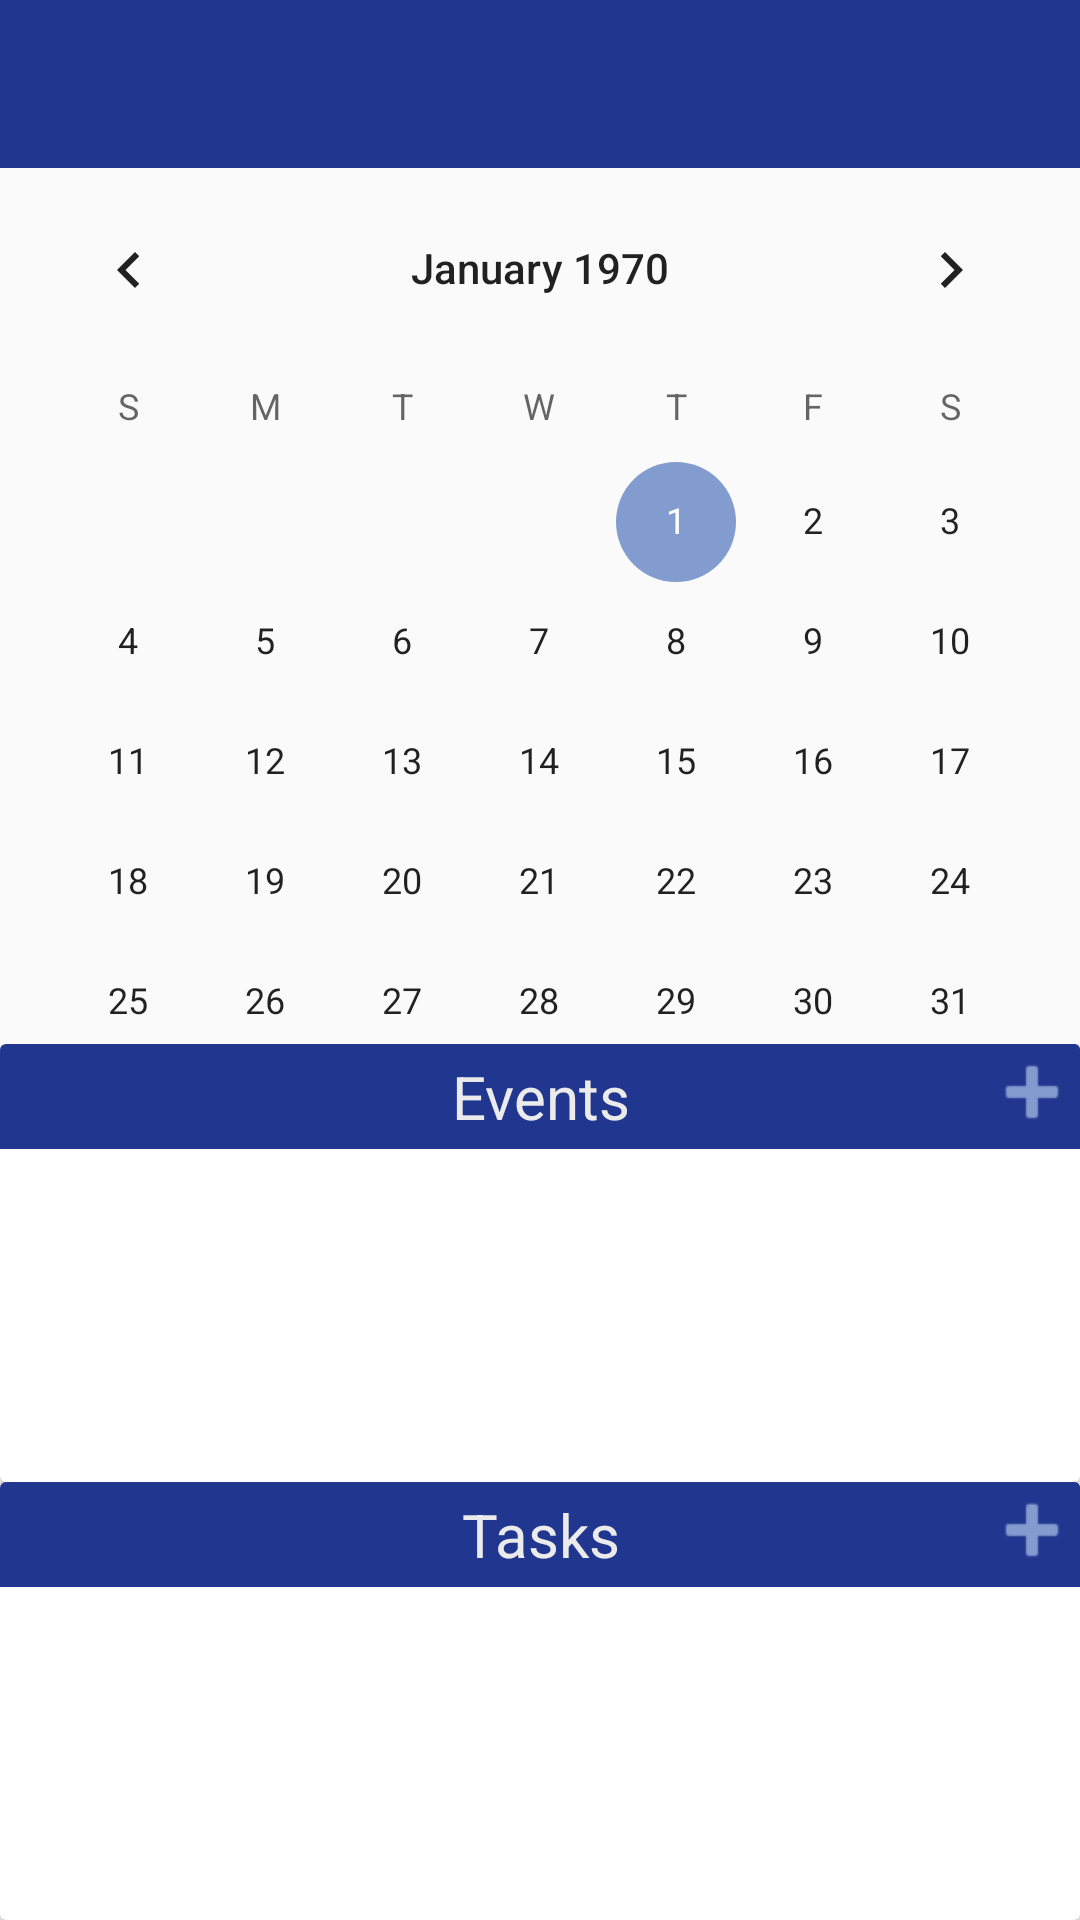

Screen size 1080 × 1920. Icon name, then its box in pixels as (x1, y1, x2, y2):
add: (1005, 1065, 1059, 1119), (1005, 1503, 1059, 1557)
